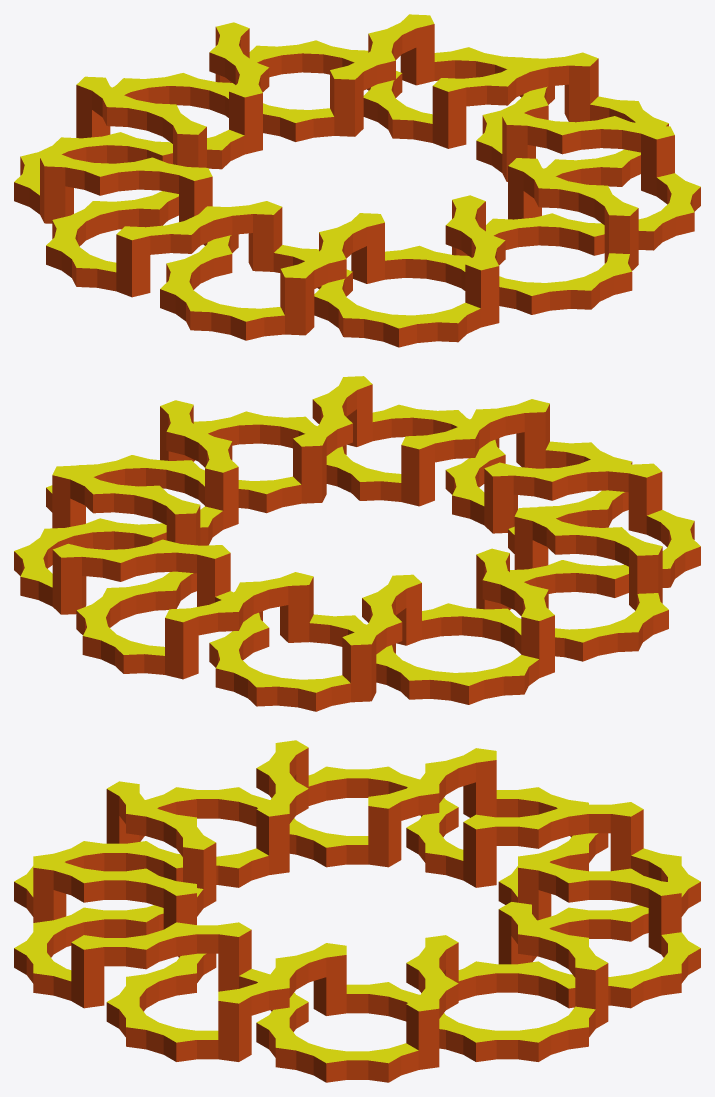
Rendered from Stepped10CrossingKnotDecagons.glb.
3 views of the same model, one above another, from view 1: azimuth 30°, elevation 25°; view 2: azimuth 150°, elevation 25°; view 3: azimuth 270°, elevation 25° (orthographic). The views are drawn at different scales.
Visible parts, largest first — view 1: LINK+M+2X+12Augmented+Penta+Prism; view 2: LINK+M+2X+12Augmented+Penta+Prism; view 3: LINK+M+2X+12Augmented+Penta+Prism.
Part boxes in pixels (left/top/right/bottom): LINK+M+2X+12Augmented+Penta+Prism: left=14, top=14, right=700, bottom=347; LINK+M+2X+12Augmented+Penta+Prism: left=14, top=376, right=700, bottom=711; LINK+M+2X+12Augmented+Penta+Prism: left=14, top=740, right=700, bottom=1082.
Bounding box in the file's own units: 188 × 17.33 × 184.
